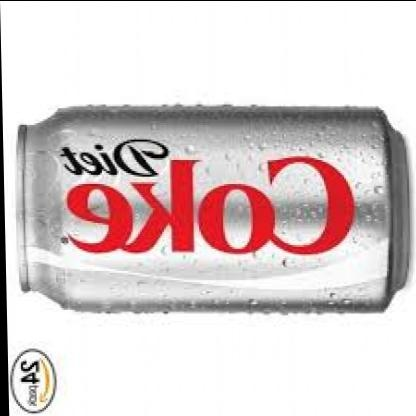trash: (17, 106, 409, 310)
